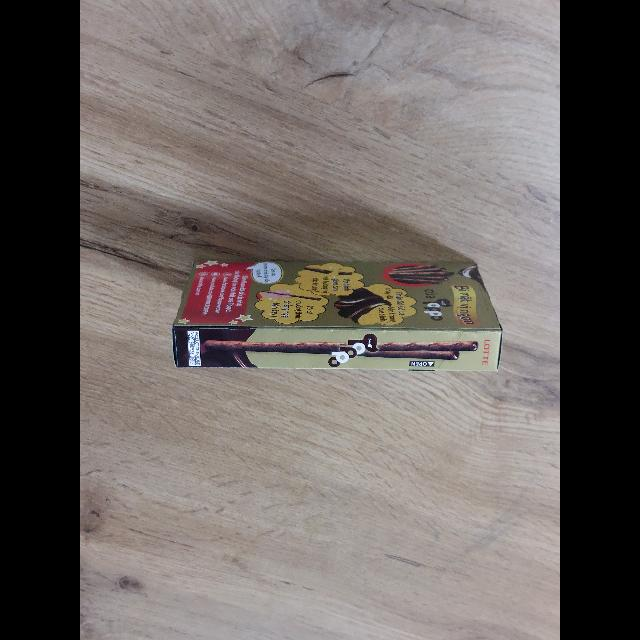banh_toppo_socola: (172, 260, 502, 371)
